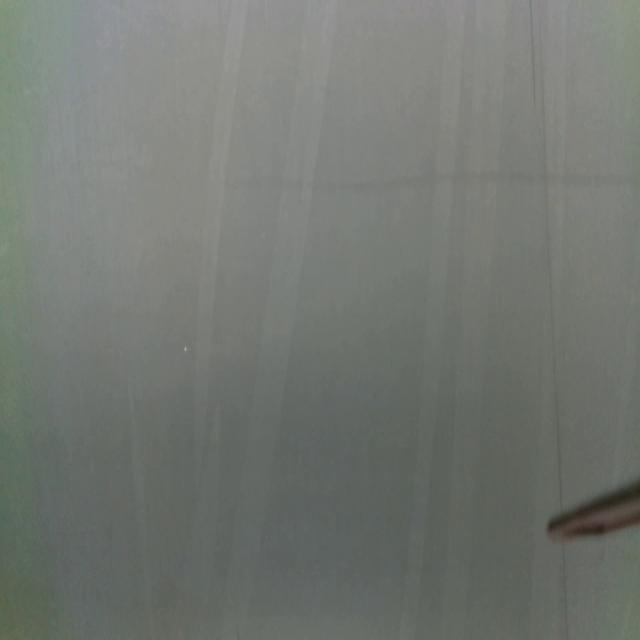color bleeding: (218, 168, 640, 196)
crease: (529, 0, 564, 510), (560, 547, 570, 640)
